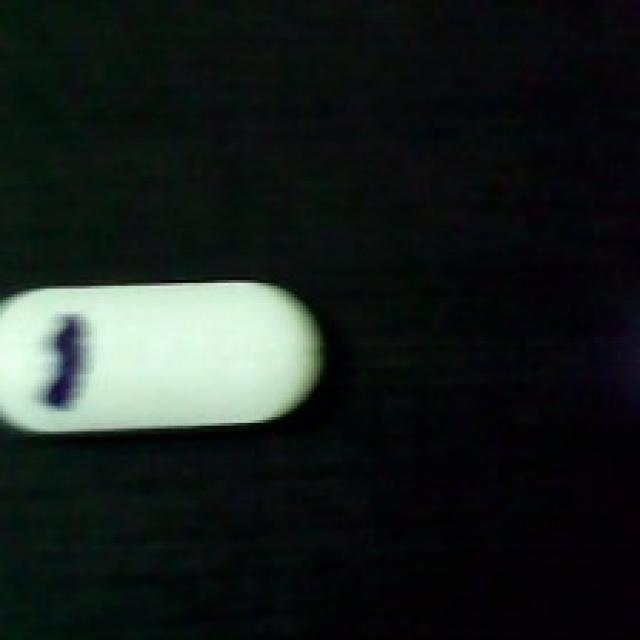defected: (0, 277, 326, 440)
